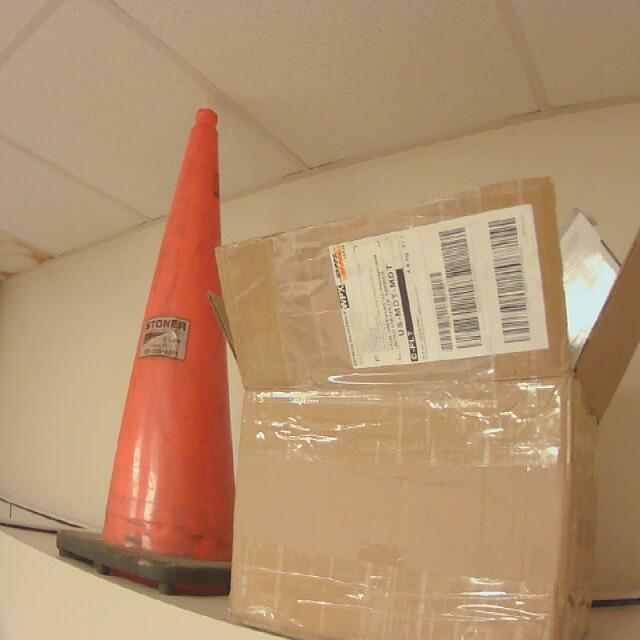traffic cone: (56, 110, 236, 601)
